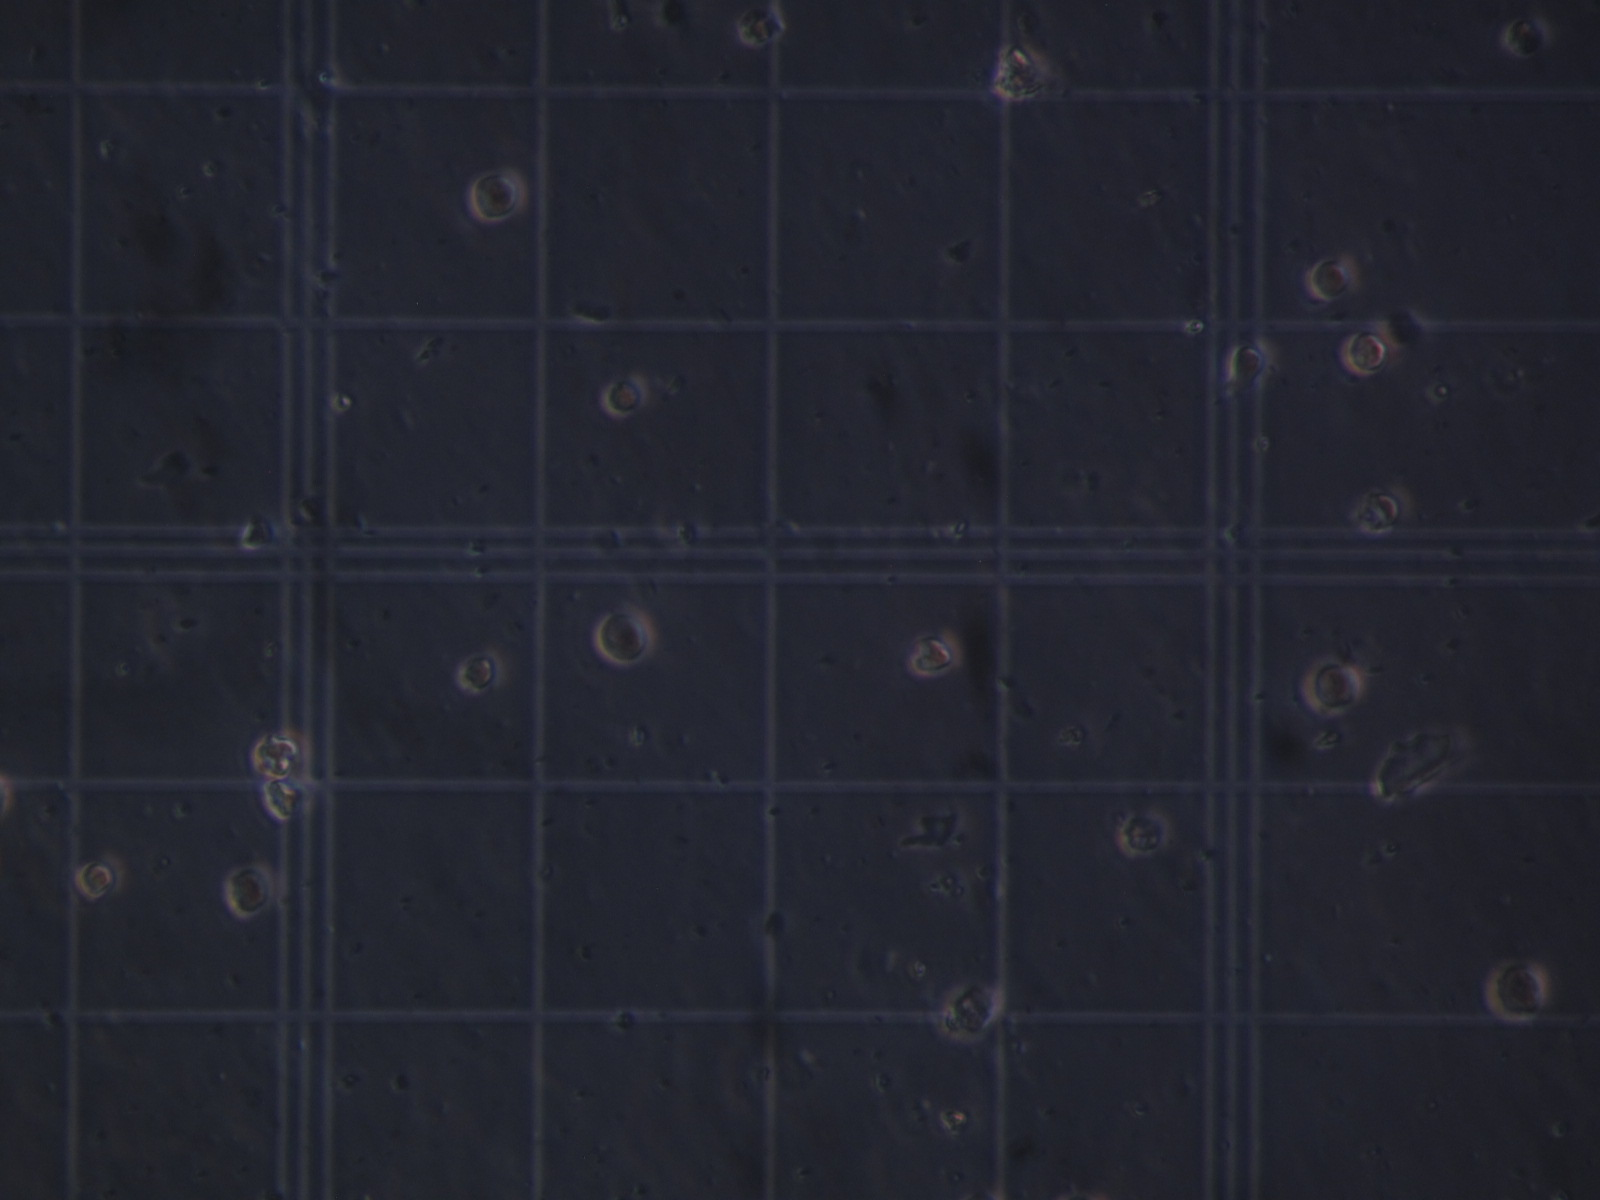hemo: (1299, 650, 1364, 721), (1485, 955, 1550, 1024), (591, 606, 655, 667), (1114, 800, 1175, 857), (226, 858, 280, 921), (471, 165, 527, 224), (941, 983, 995, 1041), (910, 625, 965, 679), (249, 730, 306, 780), (1340, 321, 1390, 379), (1311, 251, 1361, 306), (76, 851, 127, 903), (1502, 10, 1553, 61), (733, 1, 786, 49), (455, 647, 504, 695), (1354, 487, 1403, 533), (260, 774, 305, 824), (1231, 337, 1275, 382), (603, 376, 650, 418)
